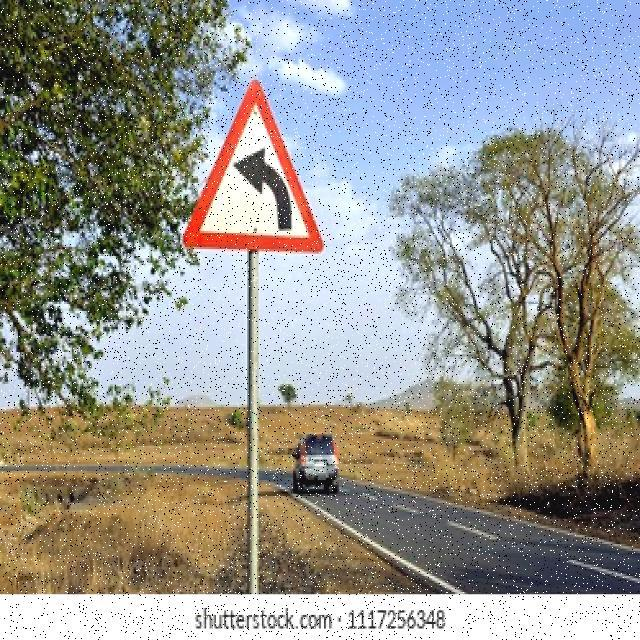Traffic sign: (176, 75, 334, 260)
